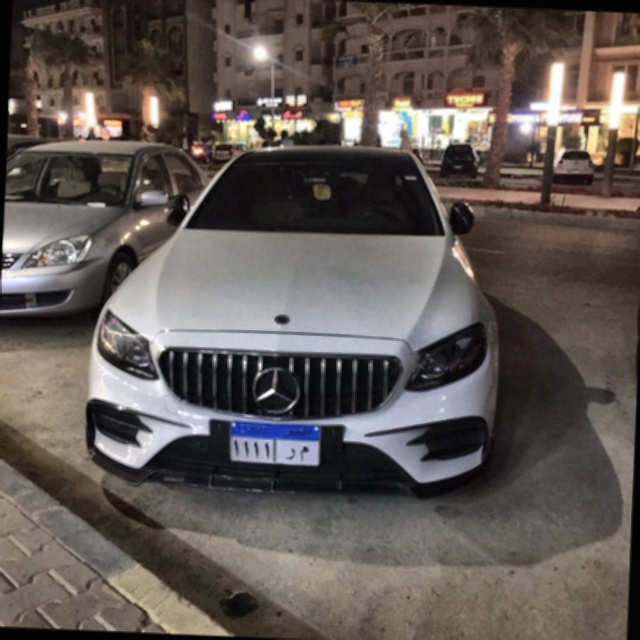License Plate: (229, 420, 322, 465)
